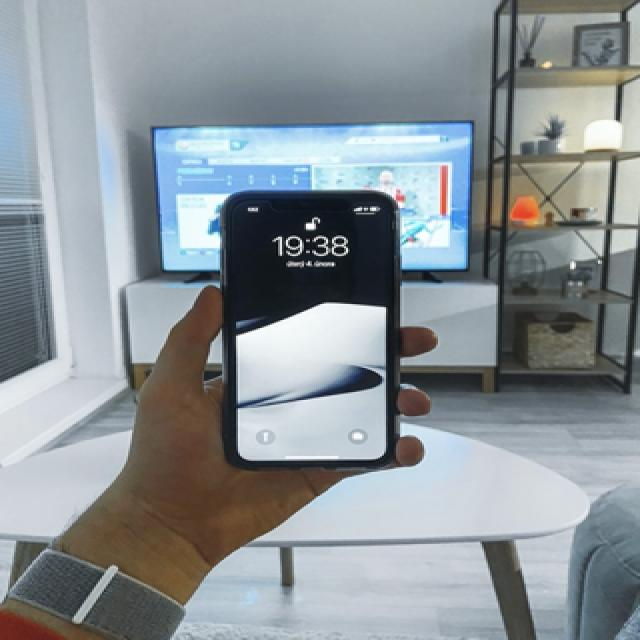cellphone: (218, 189, 400, 469)
